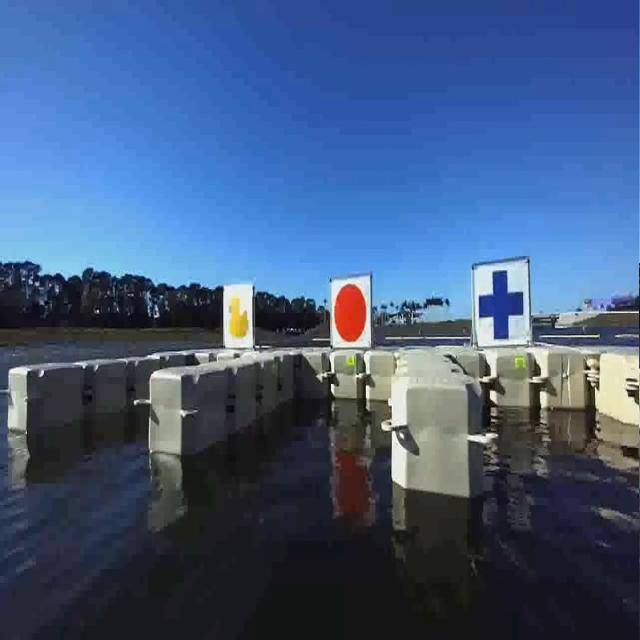blue-cross: (468, 256, 532, 353)
red-dot: (330, 280, 373, 356)
yellow-duck: (223, 284, 254, 349)
